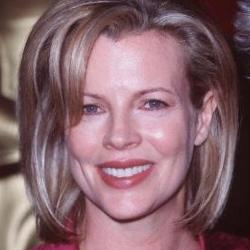face: (12, 1, 237, 235)
